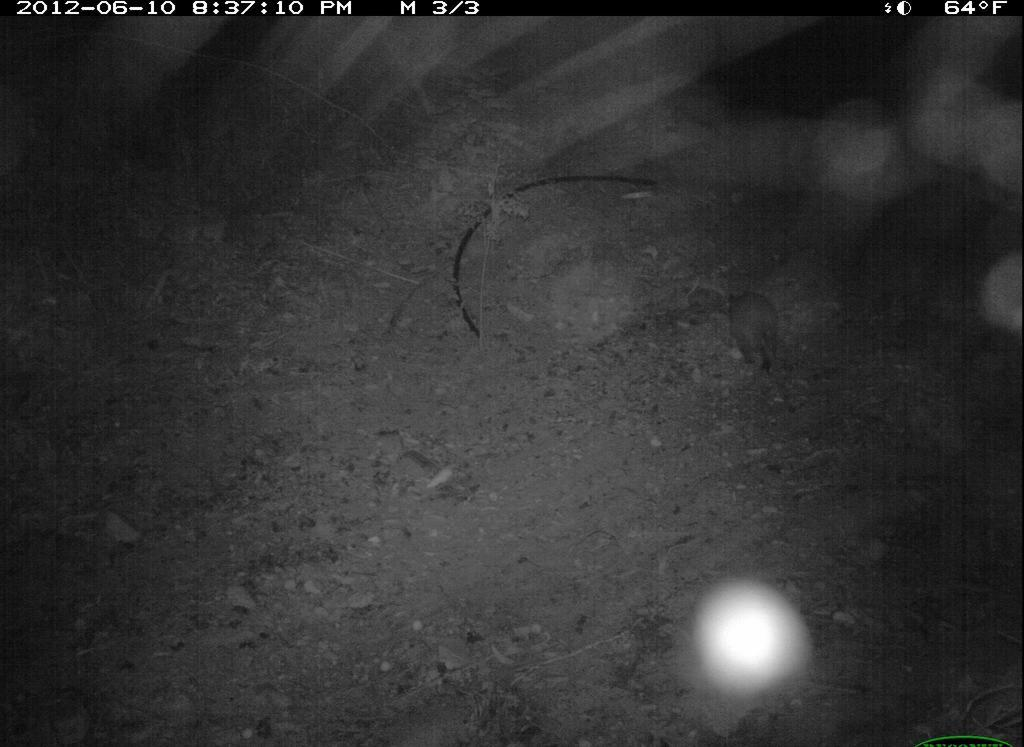opossum: (722, 271, 788, 378)
